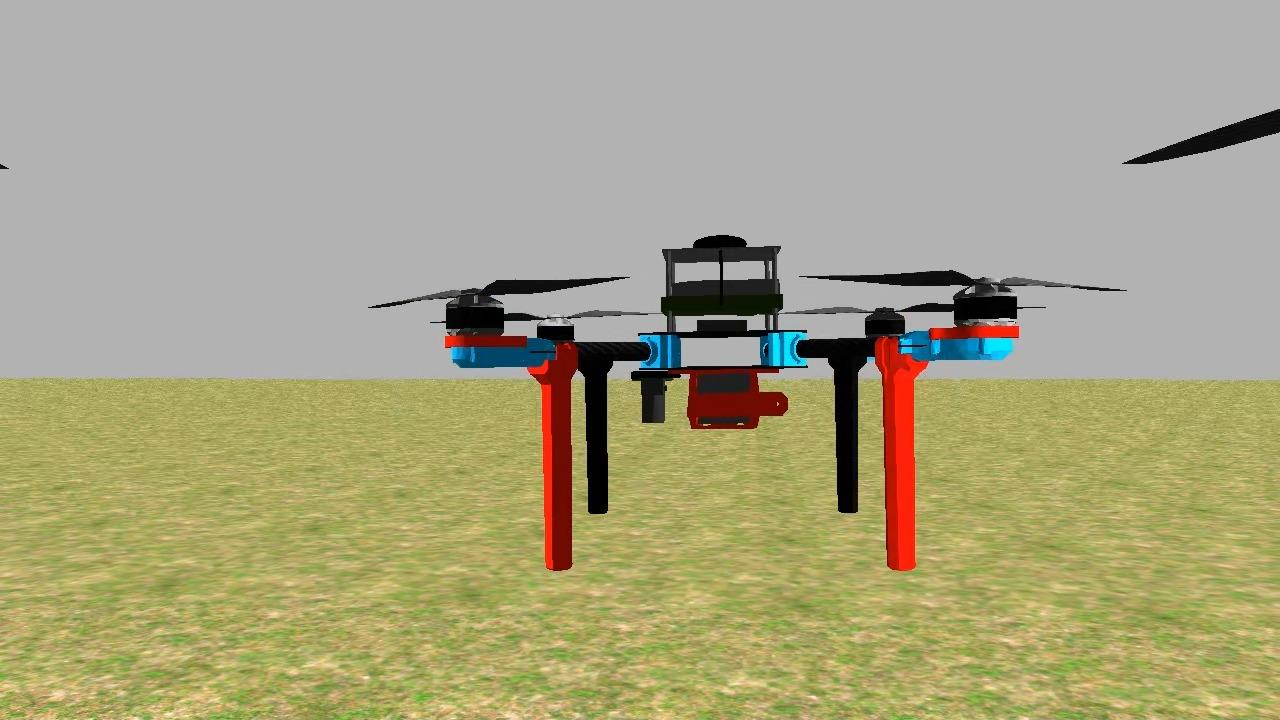UAV: (437, 223, 1032, 593)
